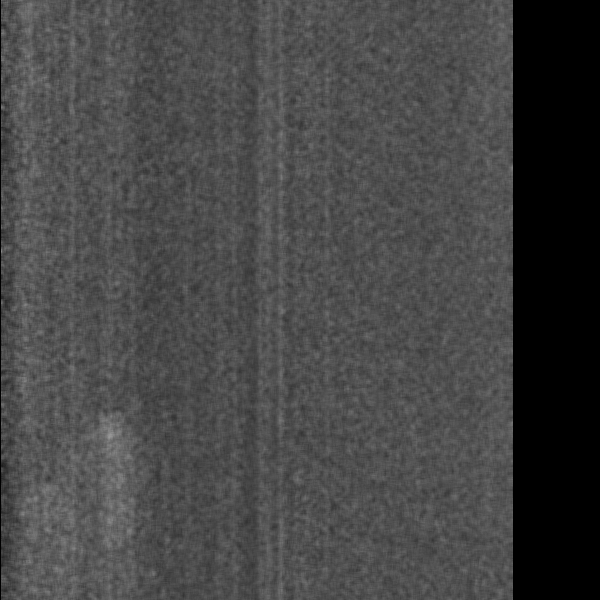spark: (63, 538, 78, 556)
